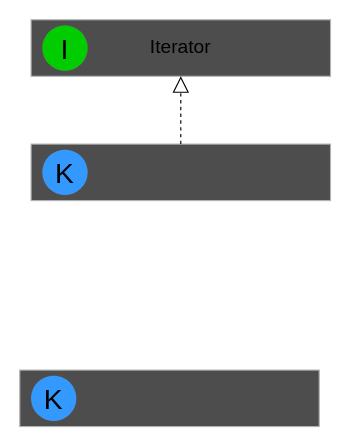
Image size: 350x446. Some labels were removed from this diagram. The box of each missing label's shape, as (x1, y1, x2, y2) in pixels:
MenuPosition: (19, 369, 319, 427)
RestMenu: (30, 143, 331, 201)
